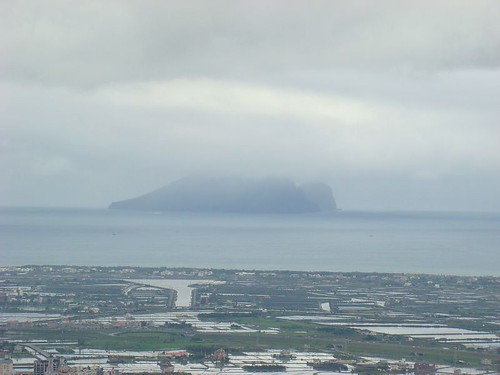turtleIslandLeft: (108, 165, 339, 214)
